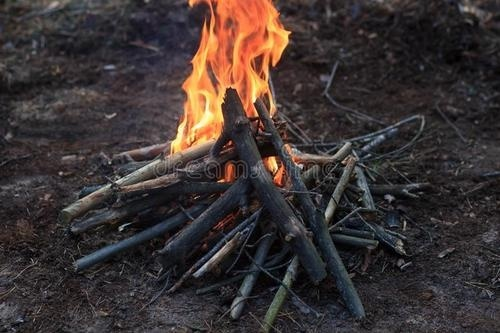fire: (171, 0, 294, 155), (263, 145, 295, 183)
